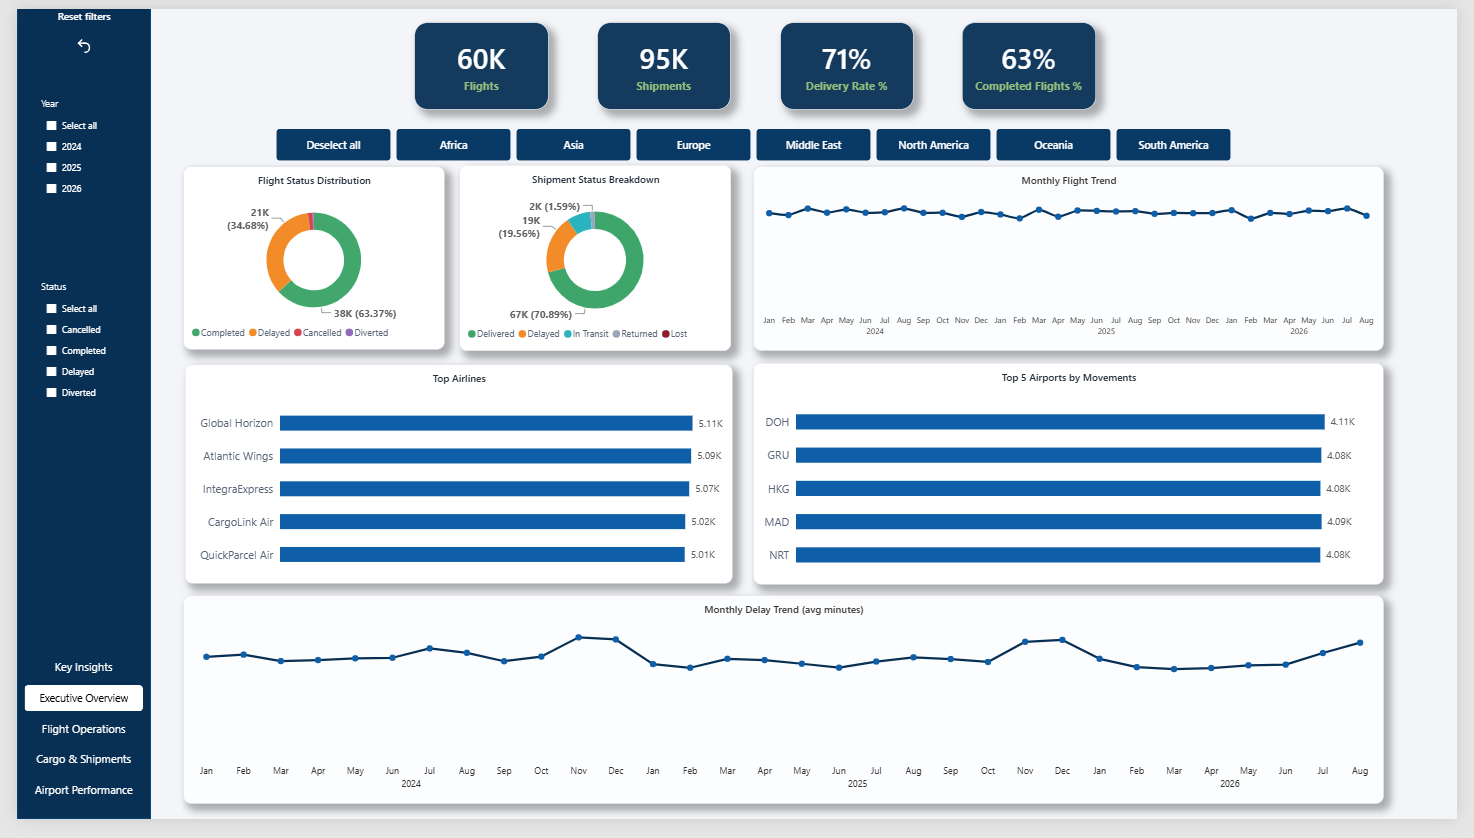

The page's visual inventory and layout, read from the dashboard file:
{"tool":"powerbi","page":{"name":"Executive Overview","canvas":[1920,1080],"ordinal":1},"visuals":[{"type":"shape","box":[0,0,178.6,1080],"z":0},{"type":"card","fields":{"Values":["Measure Table.Total Flights"]},"box":[530.5,18.1,178.6,115.7],"z":1000},{"type":"card","fields":{"Values":["Measure Table.Total Shipments"]},"box":[774.8,18.1,177.1,115.7],"z":2000},{"type":"card","fields":{"Values":["Measure Table.Delivery_Rate_Pct"]},"box":[1017.7,18.1,177.1,115.7],"z":3000},{"type":"card","fields":{"Values":["Measure Table.On_Time_Pct"]},"box":[1260.5,18.1,178.6,115.7],"z":4000},{"type":"lineChart","title":"Monthly Flight Trend","fields":{"Category":["flights.Year","flights.Month Short"],"Y":["Measure Table.Total Flights"]},"box":[982.5,210,840,245],"z":5000},{"type":"donutChart","title":"Flight Status Distribution","fields":{"Category":["flights.status"],"Y":["Measure Table.Total Flights"]},"box":[222.2,210.3,348,244],"z":6000},{"type":"donutChart","title":"Shipment Status Breakdown","fields":{"Category":["shipments.status"],"Y":["Measure Table.Total Shipments"]},"box":[590.9,208.3,362,248],"z":7000},{"type":"barChart","title":"Top Airlines","fields":{"Category":["airlines.name"],"Y":["Measure Table.Total Flights"]},"box":[223.2,474.1,730,292],"z":8000},{"type":"barChart","title":"Top 5 Airports by Movements","fields":{"Category":["airports.iata_code"],"Y":["Measure Table.Total Movements"]},"box":[982.5,472.5,840,295],"z":9000},{"type":"lineChart","title":"Monthly Delay Trend (avg minutes)","fields":{"Category":["flights.Year","flights.Month Short"],"Y":["Measure Table.AVG Delay"]},"box":[222.5,782.5,1600,277.5],"z":10000},{"type":"actionButton","title":"Reset filters","box":[2,0,175,65],"z":11000},{"type":"slicer","title":"Status","fields":{"Values":["flights.status"]},"box":[32.9,360,115.6,202.2],"z":12000},{"type":"slicer","title":"Year","fields":{"Values":["flights.Year"]},"box":[32.9,115.7,115.6,160],"z":13000},{"type":"advancedSlicerVisual","title":"Region","fields":{"Values":["airports.region"]},"box":[346.5,160.8,1274.1,42.6],"z":14000},{"type":"pageNavigator","box":[10,860,158,200],"z":15000}]}

Visuals, with their boxes on the page's 1920x1080 design canvas (x1, y1, x2, y2). These are canvas units, not pixel positions in the 1474x838 screenshot, which may show the page scaled, cropped or inside an application window:
shape: locate(0, 0, 179, 1080)
card - Measure Table.Total Flights: locate(530, 18, 709, 134)
card - Measure Table.Total Shipments: locate(775, 18, 952, 134)
card - Measure Table.Delivery_Rate_Pct: locate(1018, 18, 1195, 134)
card - Measure Table.On_Time_Pct: locate(1260, 18, 1439, 134)
"Monthly Flight Trend" lineChart: locate(982, 210, 1822, 455)
"Flight Status Distribution" donutChart: locate(222, 210, 570, 454)
"Shipment Status Breakdown" donutChart: locate(591, 208, 953, 456)
"Top Airlines" barChart: locate(223, 474, 953, 766)
"Top 5 Airports by Movements" barChart: locate(982, 472, 1822, 768)
"Monthly Delay Trend (avg minutes)" lineChart: locate(222, 782, 1822, 1060)
"Reset filters" actionButton: locate(2, 0, 177, 65)
"Status" slicer: locate(33, 360, 148, 562)
"Year" slicer: locate(33, 116, 148, 276)
"Region" advancedSlicerVisual: locate(346, 161, 1621, 203)
pageNavigator: locate(10, 860, 168, 1060)
